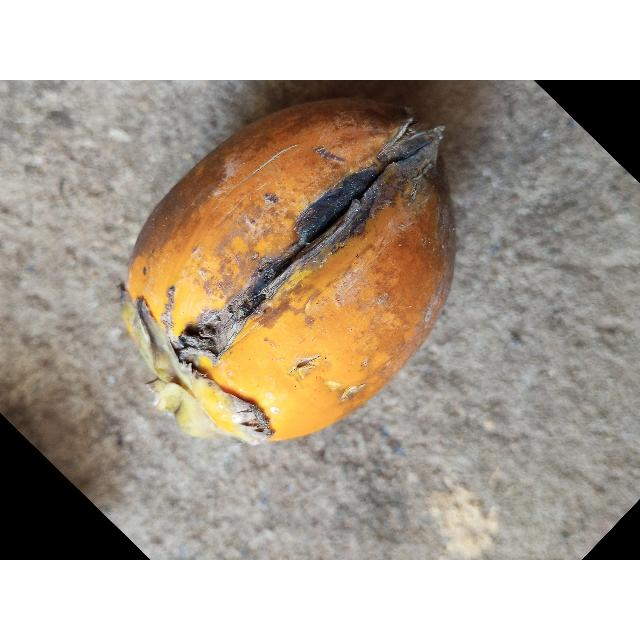damaged: (121, 98, 457, 447)
